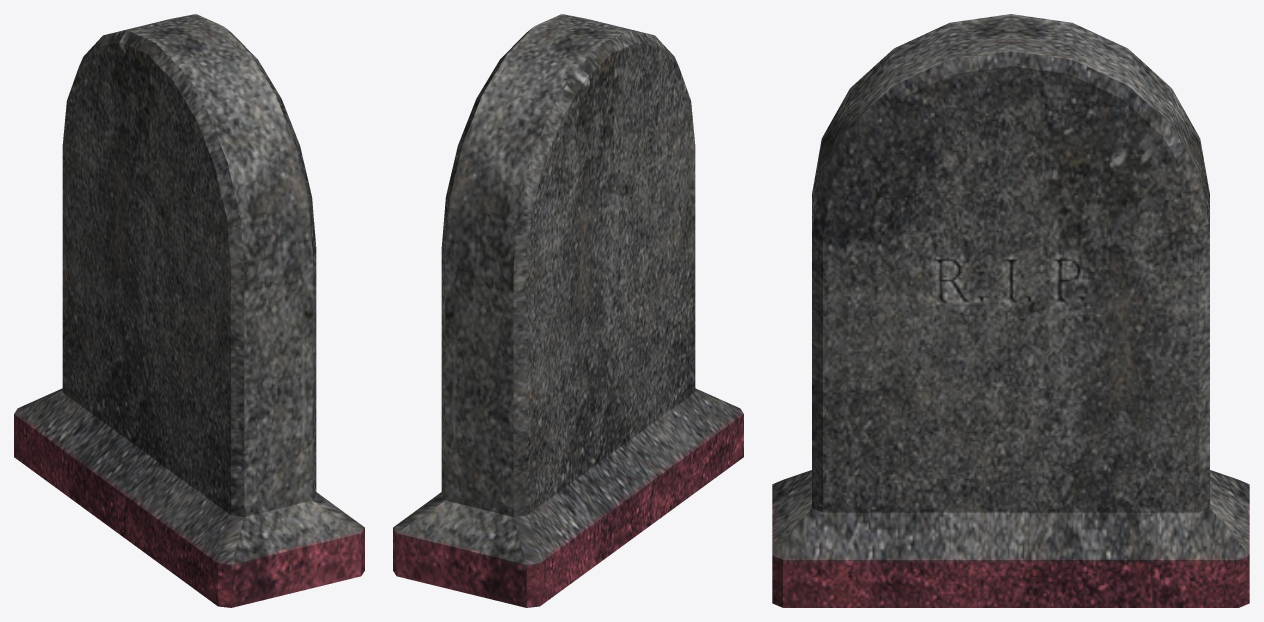
Rendered from gravestoneRed.fbx.
The picture shows the model from 3 angles, left to right: view 1: azimuth 30°, elevation 25°; view 2: azimuth 150°, elevation 25°; view 3: azimuth 270°, elevation 25°; orthographic projection. The views are drawn at different scales.
Visible parts, largest first — view 1: GravestoneRed; view 2: GravestoneRed; view 3: GravestoneRed.
Boxes of the visible parts, x1,y1,x2,y2 form: GravestoneRed: (14,14,364,607); GravestoneRed: (393,14,743,607); GravestoneRed: (772,14,1249,607).
Bounding box in the file's own units: 0.9524 × 2.97 × 2.4.
Materials: 1 (1 with a texture image).
